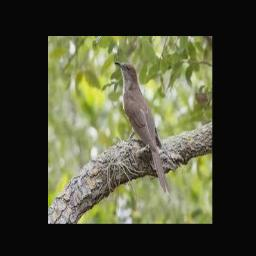Cuckoo: (114, 61, 171, 197)
